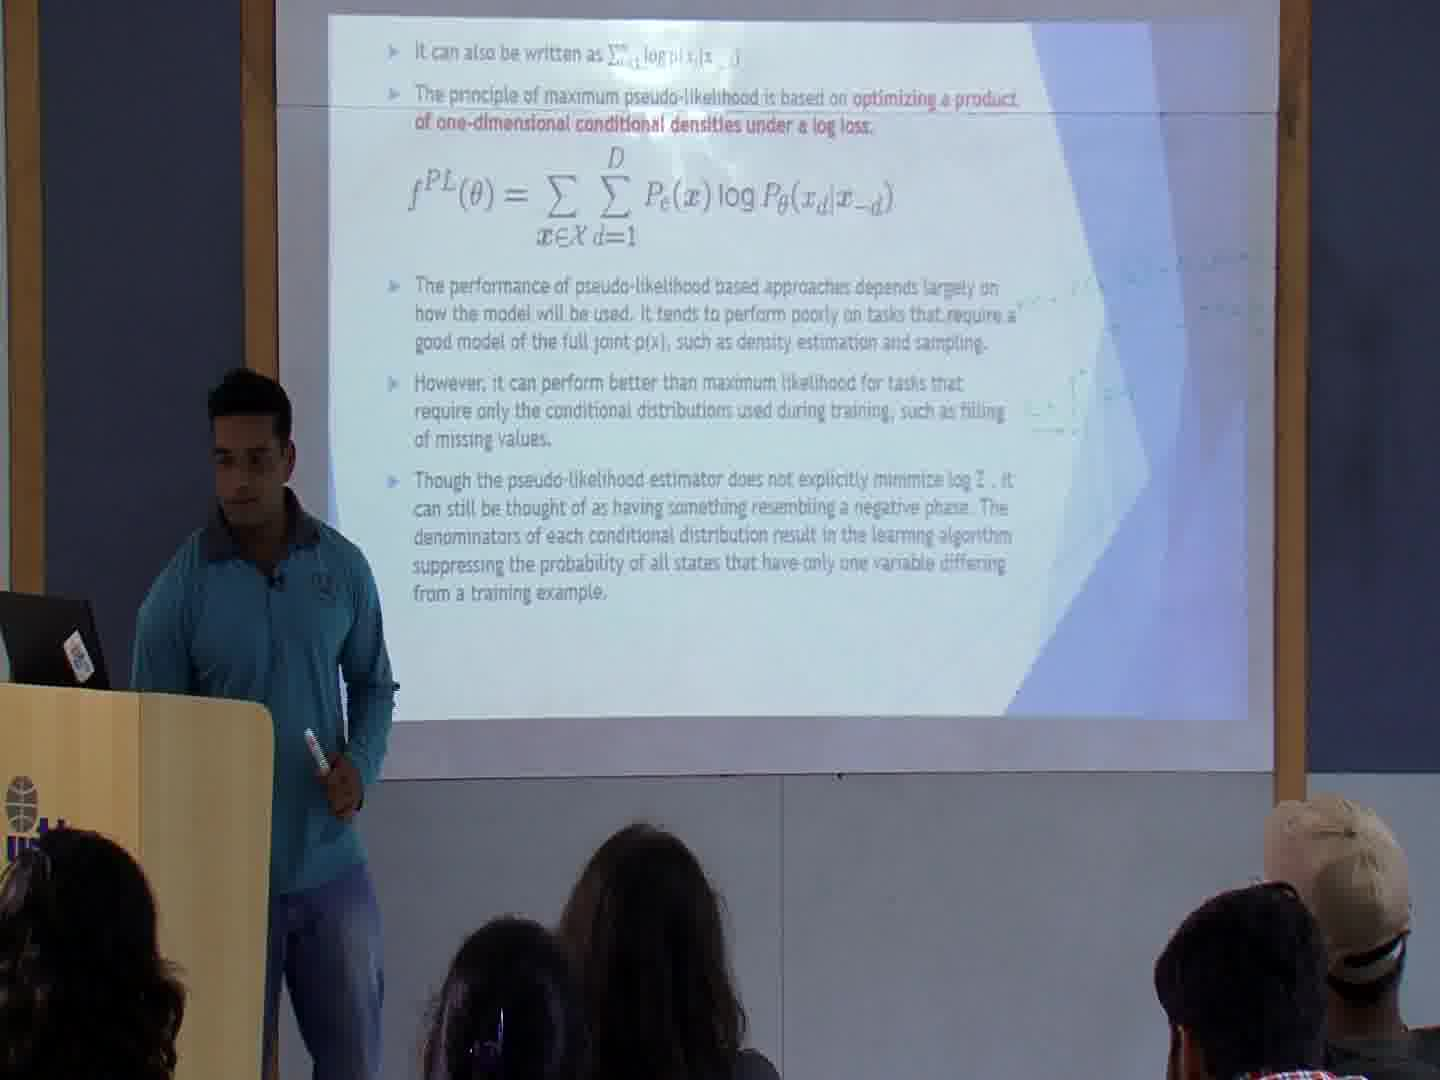slide: (329, 15, 1246, 720)
